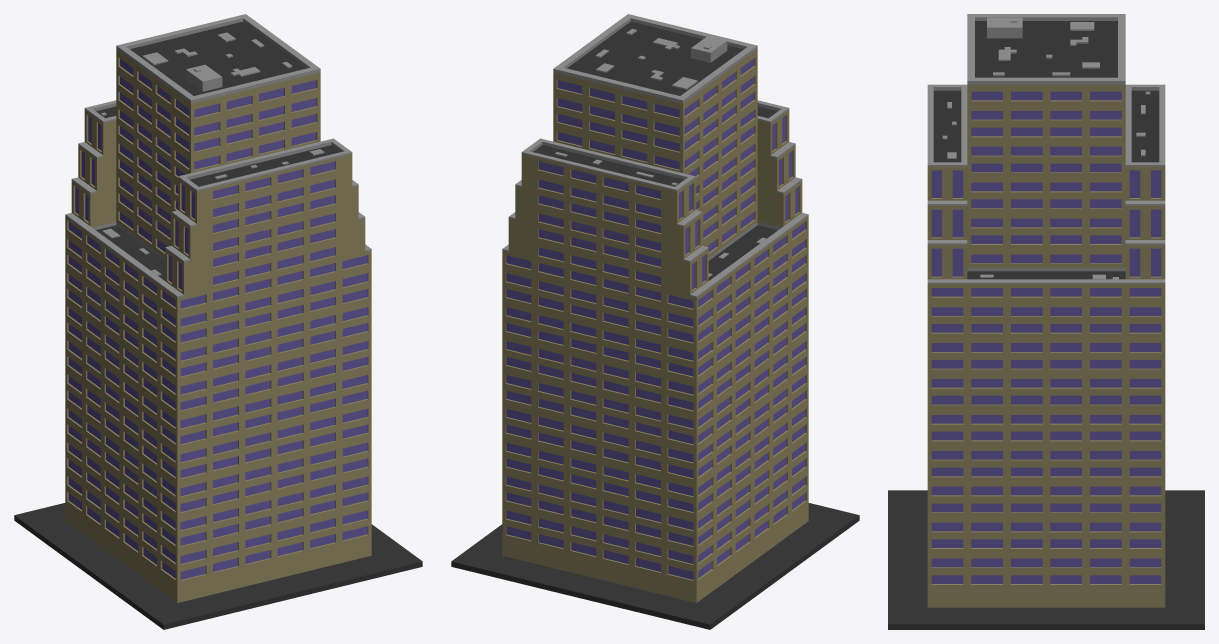
The picture shows the model from 3 angles, left to right: view 1: azimuth 30°, elevation 25°; view 2: azimuth 150°, elevation 25°; view 3: azimuth 270°, elevation 25°; orthographic projection. The views are drawn at different scales.
Visible parts, largest first — view 1: Cube.019, Floor.012; view 2: Cube.019, Floor.012; view 3: Cube.019, Floor.012.
Boxes of the visible parts, x1=… form: Cube.019: x1=65, y1=14, x2=371, y2=602; Floor.012: x1=14, y1=503, x2=422, y2=629; Cube.019: x1=502, y1=14, x2=808, y2=602; Floor.012: x1=451, y1=503, x2=859, y2=629; Cube.019: x1=927, y1=14, x2=1165, y2=607; Floor.012: x1=888, y1=490, x2=1204, y2=629.
Size of the model in its own units: 800 by 1460 by 800.
